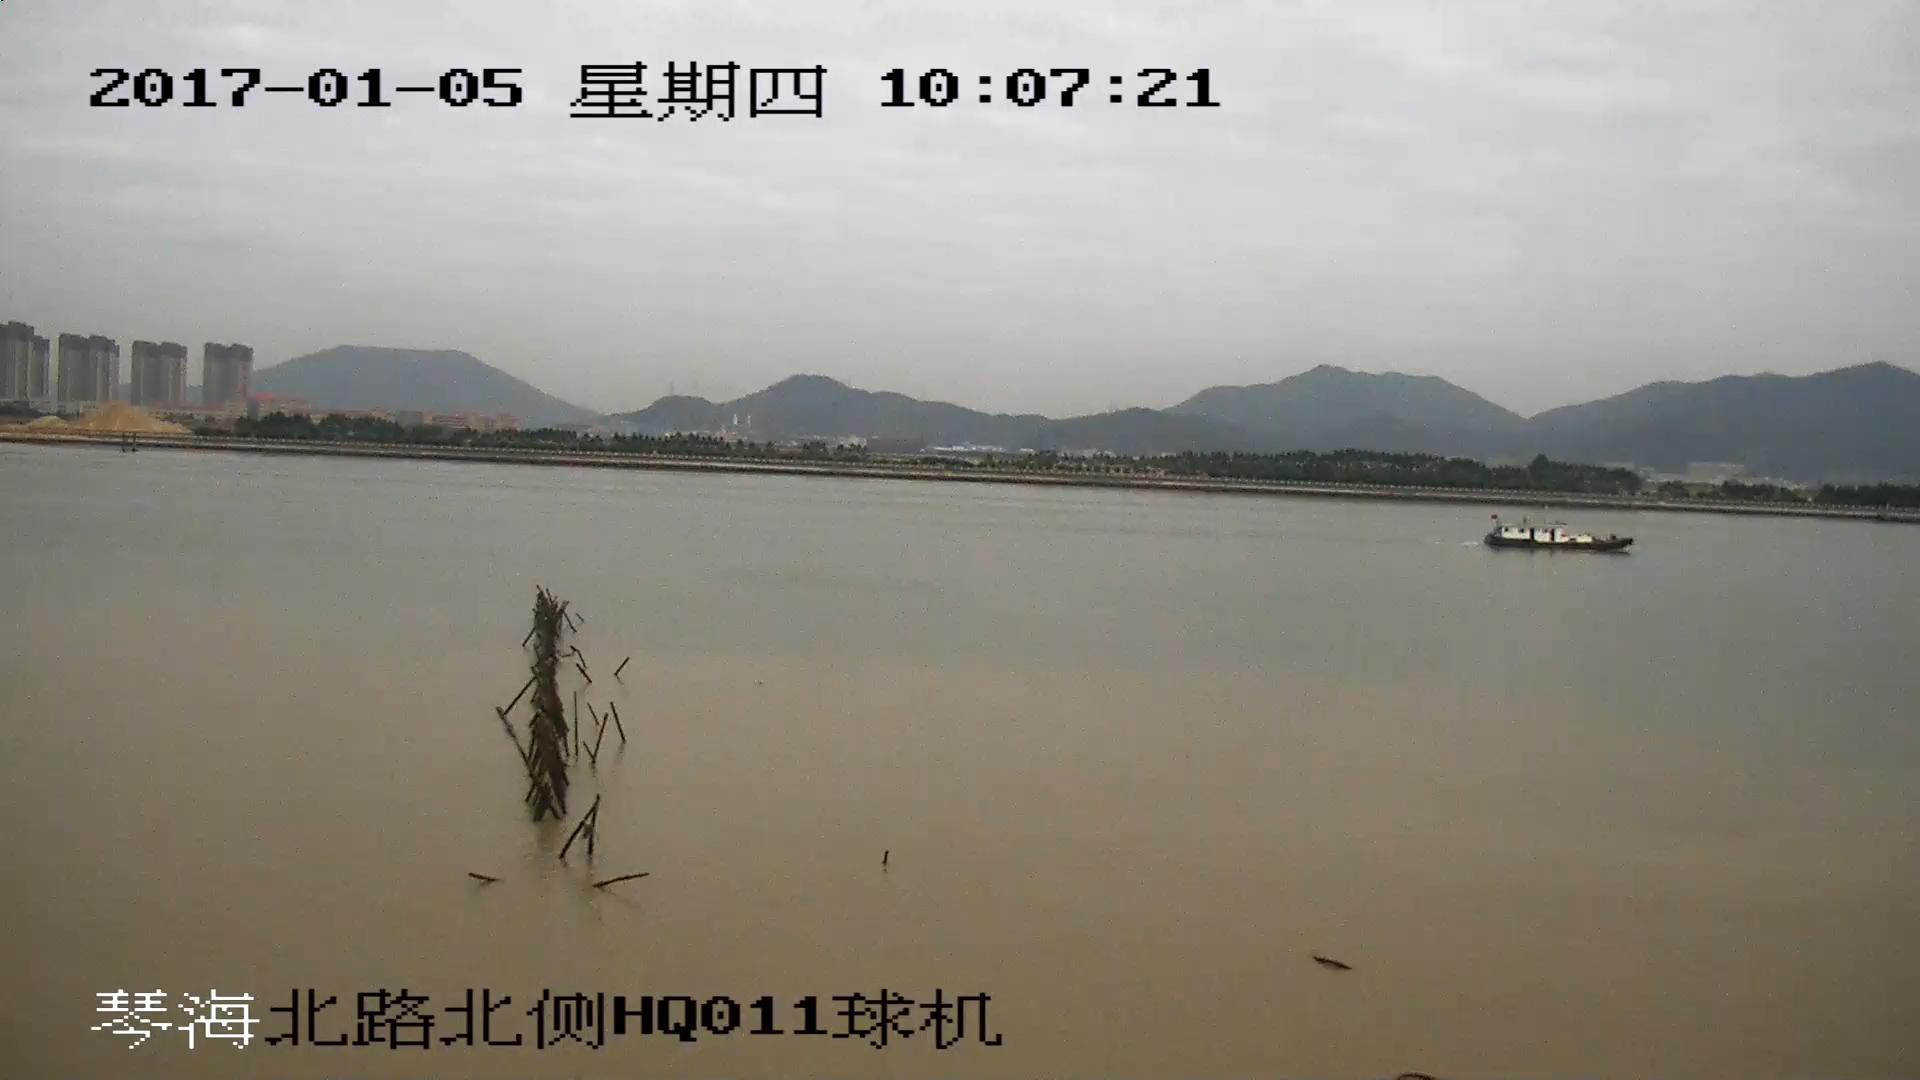fishing boat: (1483, 513, 1632, 553)
